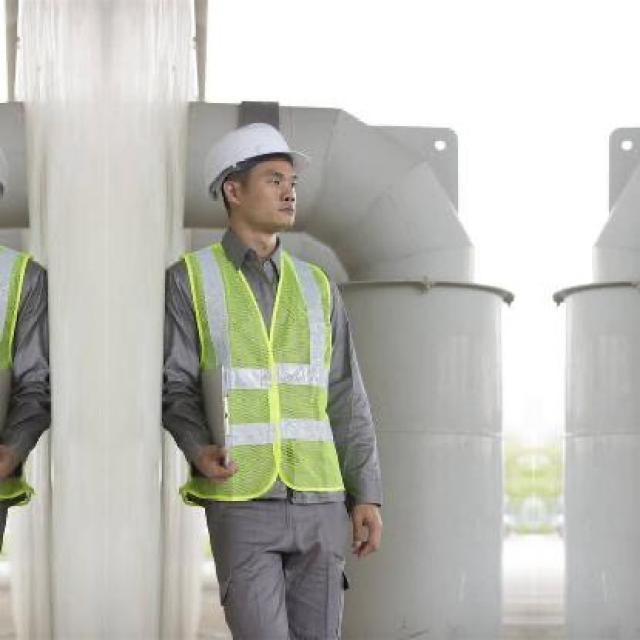Reflective-Jacket: (160, 240, 361, 512), (0, 229, 59, 525)
Safety-Helmet: (194, 115, 315, 197), (0, 123, 20, 205)
